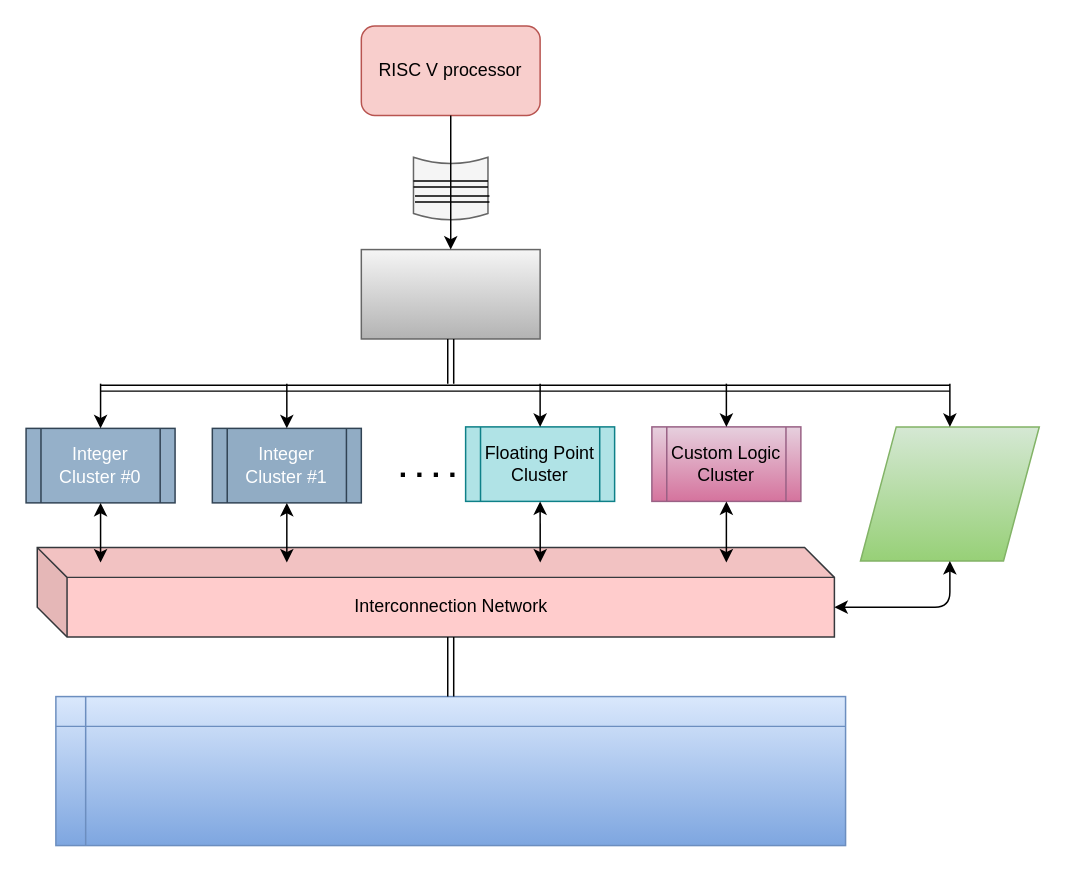
This 1065x872 diagram has some shape labels left out. The centre of each missing label's shape, as x and y in pixels:
Cache Memory: the point at 450,770
Memory Management Unit (LD/ST): the point at 949,493
Vector Issue Logic: the point at 450,293
